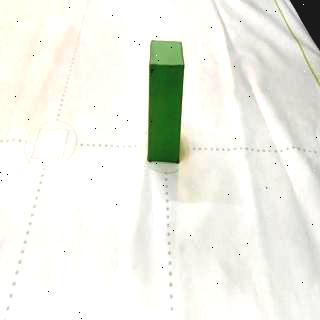greenbox: (148, 38, 186, 164)
